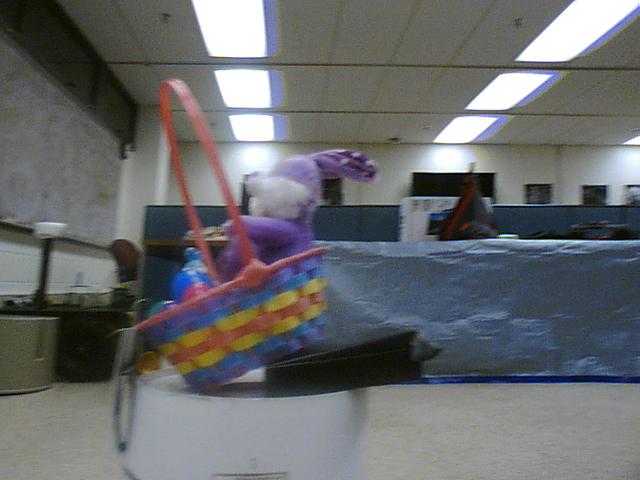bunny: (137, 77, 365, 393), (181, 249, 206, 272)
